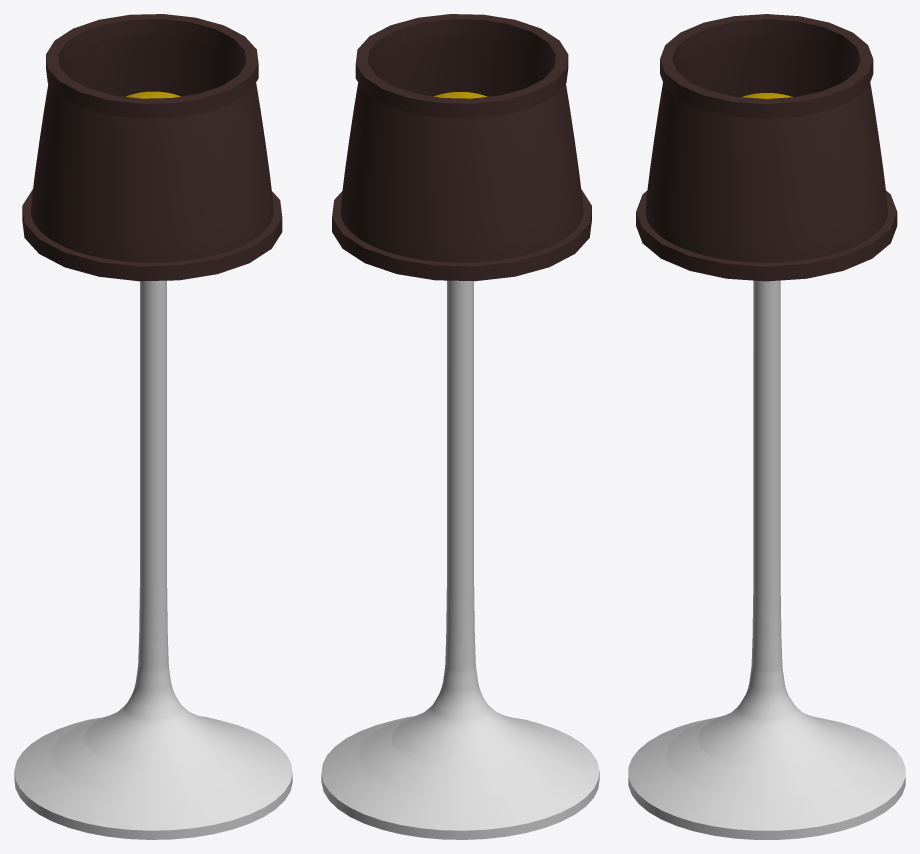
The model's file is LampeSalon1_3.fbx.
3 views of the same model, side by side, from view 1: azimuth 30°, elevation 25°; view 2: azimuth 150°, elevation 25°; view 3: azimuth 270°, elevation 25° (orthographic).
Visible parts, largest first — view 1: pPipe203, pCylinder1745, pPipe202, pPipe204; view 2: pPipe203, pCylinder1745, pPipe202, pPipe204; view 3: pPipe203, pCylinder1745, pPipe202, pPipe204.
Boxes of the visible parts, box(x1,y1,x2,y2) form: pPipe203: box(31, 34, 273, 262); pCylinder1745: box(14, 280, 292, 839); pPipe202: box(46, 14, 258, 118); pPipe204: box(22, 189, 282, 281); pPipe203: box(340, 34, 583, 262); pCylinder1745: box(321, 280, 599, 839); pPipe202: box(355, 14, 568, 118); pPipe204: box(332, 189, 591, 281); pPipe203: box(645, 34, 887, 262); pCylinder1745: box(628, 280, 905, 839); pPipe202: box(660, 14, 873, 118); pPipe204: box(636, 190, 897, 281).
Size of the model in its own units: 30.29 by 87.06 by 30.29.
